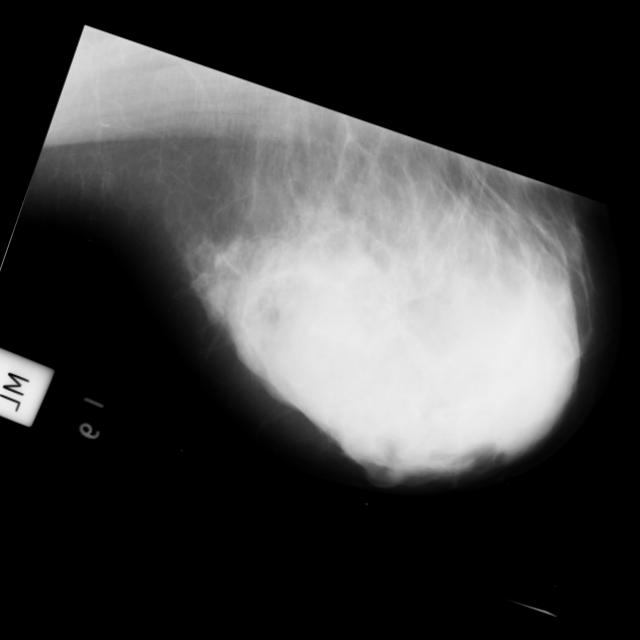ARCH: (0, 284, 266, 539)
